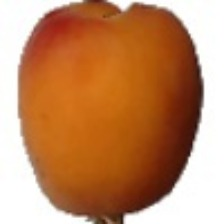apricot: (8, 42, 189, 219)
